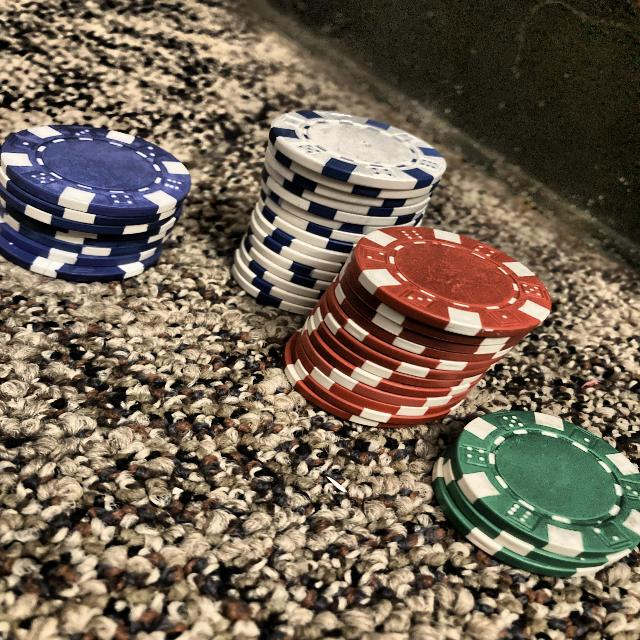Chip: (277, 185, 578, 447), (205, 83, 460, 335), (414, 376, 636, 592), (0, 97, 194, 297)
